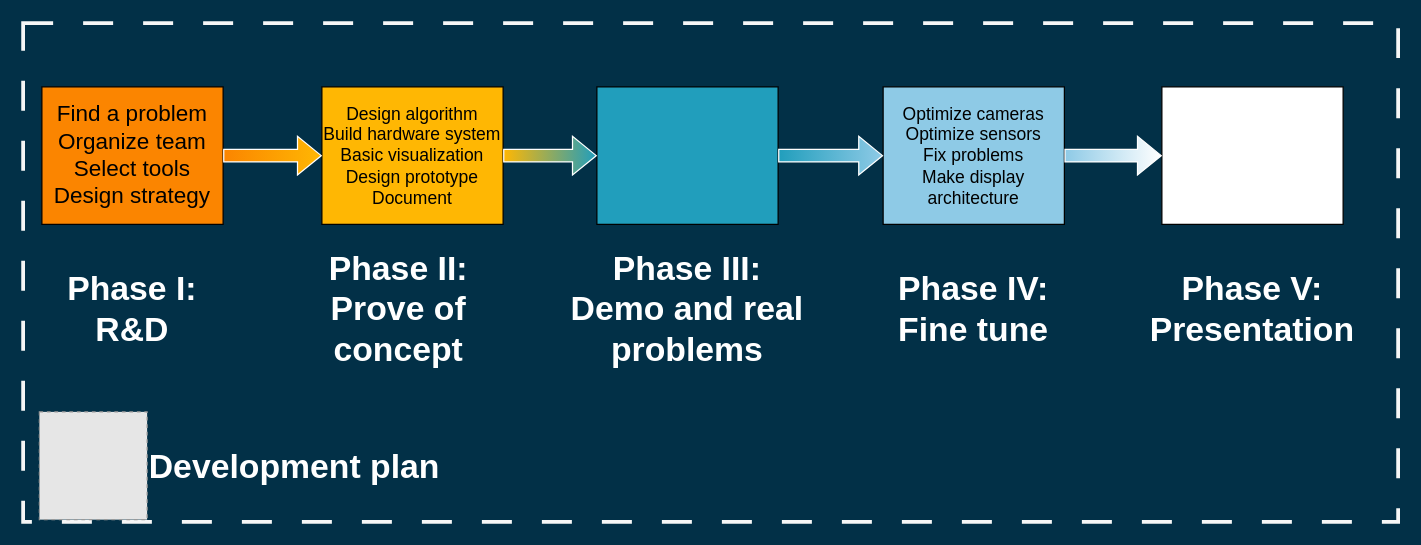
The diagram is 1421 pixels wide and 545 high, and some of its shapes have lost their labels. Grey dashed boxes stand in for pictures. The shapes that lost their labels are listed below. From the top down, each one's centre as x and y in pixels, then its label:
At (687,155): "Integration Testing Error handling Optimizations".
At (1252,155): "Presentation Advertisement materials Setup demonstrations".
